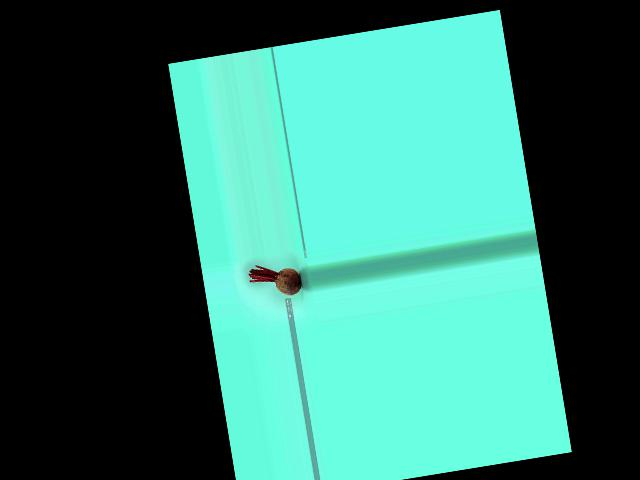beet: (247, 259, 303, 301)
